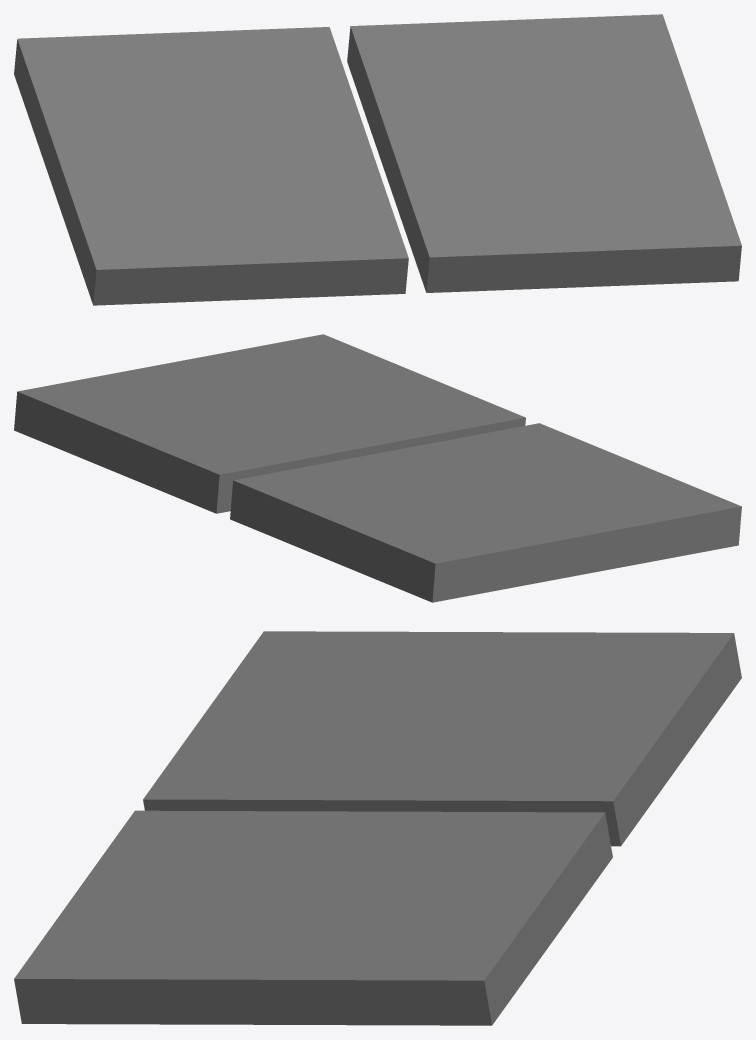
File: С2_Кромки.glb
3 views of the same model, one above another, from view 1: azimuth 30°, elevation 25°; view 2: azimuth 150°, elevation 25°; view 3: azimuth 270°, elevation 25° (orthographic). The views are drawn at different scales.
Visible parts, largest first — view 1: node_id3; view 2: node_id3; view 3: node_id3.
Boxes of the visible parts, x1,y1,x2,y2 form: node_id3: [14, 14, 741, 305]; node_id3: [14, 334, 741, 602]; node_id3: [14, 631, 741, 1025].
Size of the model in its own units: 0.5914 by 0.1072 by 0.4778.
1 material, 1 textured.
